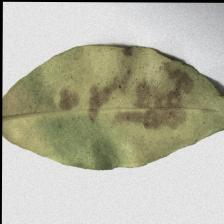canker: (55, 37, 201, 138)
